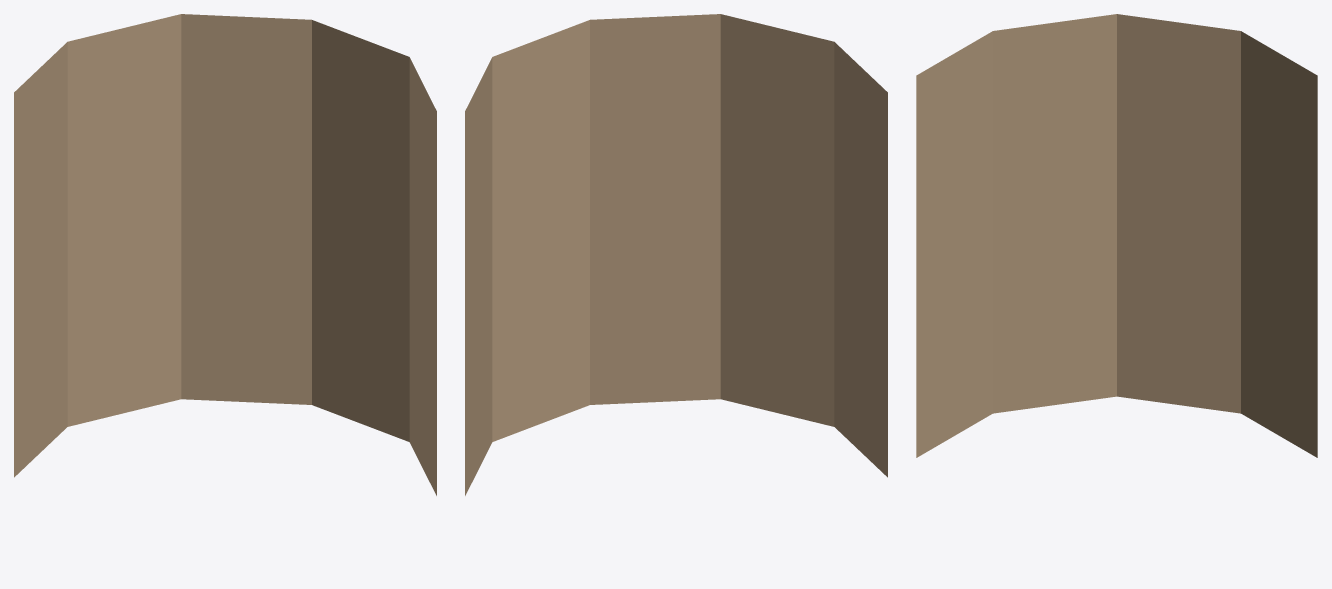
Rendered from stump_01.glb.
The picture shows the model from 3 angles, left to right: view 1: azimuth 30°, elevation 25°; view 2: azimuth 150°, elevation 25°; view 3: azimuth 270°, elevation 25°; orthographic projection.
Parts seen in each view (by area): view 1: 木桩; view 2: 木桩; view 3: 木桩.
Boxes of the visible parts, x1,y1,x2,y2 form: 木桩: [14, 14, 436, 495]; 木桩: [465, 14, 887, 495]; 木桩: [916, 14, 1317, 457].
Bounding box in the file's own units: 1 × 1 × 0.9511.
